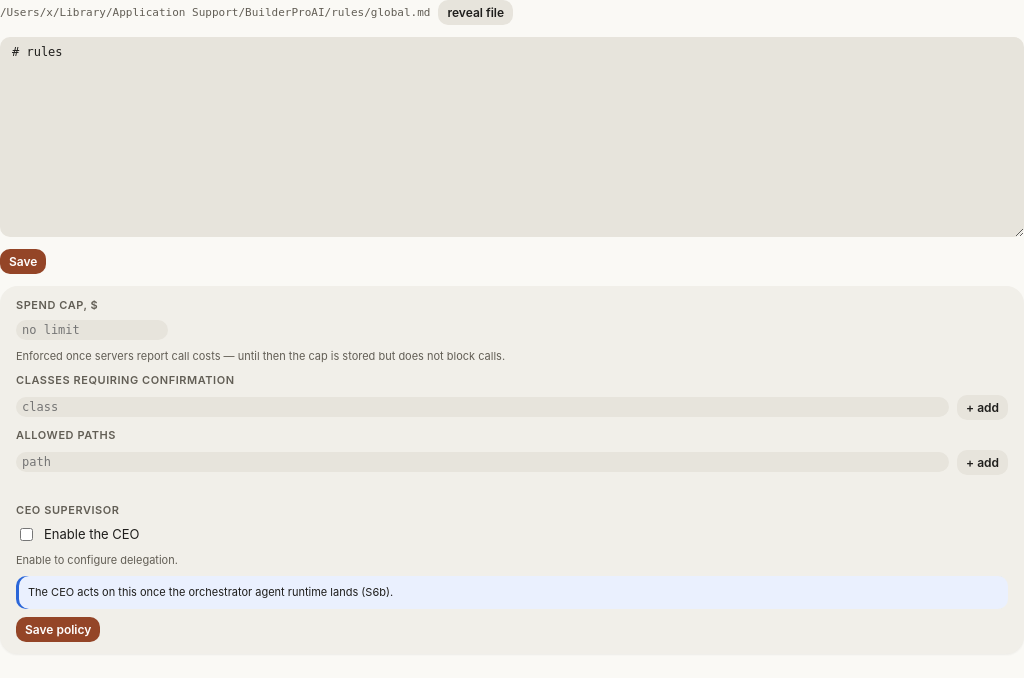
Test: RulesetPanel — CEO supervisor (SCN-046) › Recommended scope seeds the safe-shell + file-write delegated classes as checked
The image size is (1024, 678).
# Enable to reveal the detail controls, then apply the preset.
Click the checkbox with test id "ruleset-supervisor-enable": x=26, y=534 [20,528,33,540]
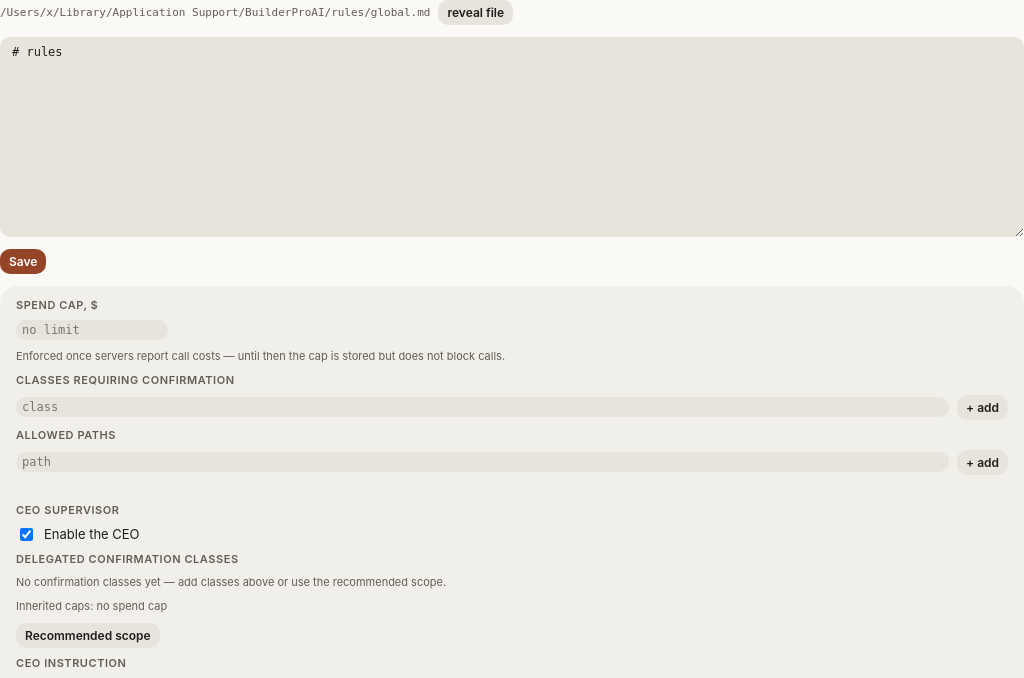
Click the button with test id "ruleset-supervisor-recommended": x=88, y=635 [16,622,160,648]
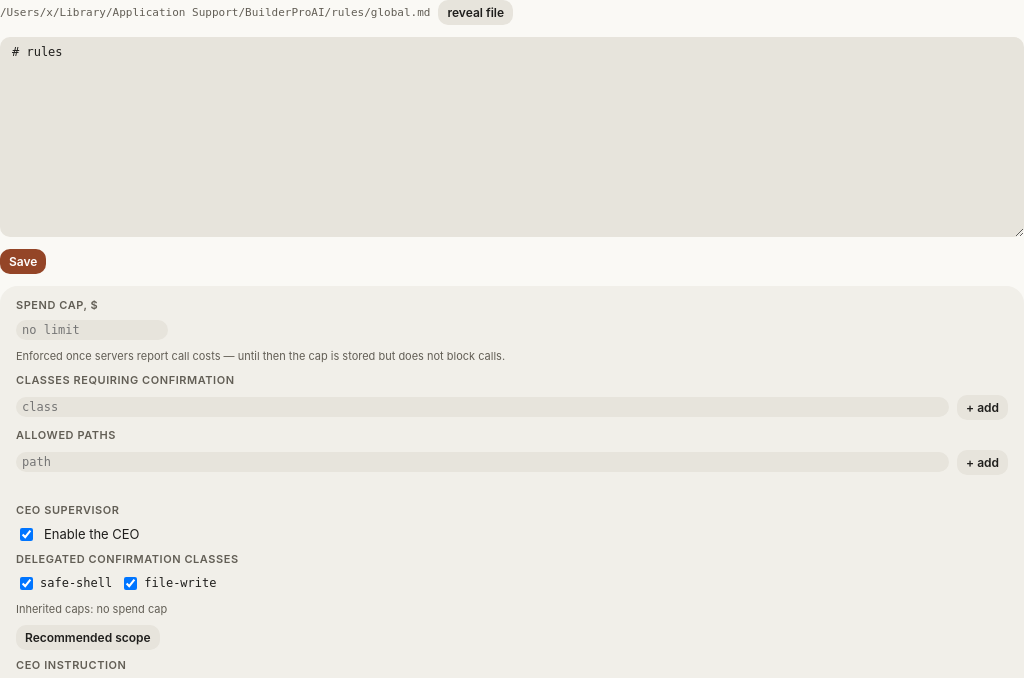
Expected: the checkbox with test id "ruleset-supervisor-class-safe-shell" is checked, [20,576,33,590]
Expected: the checkbox with test id "ruleset-supervisor-class-file-write" is checked, [124,576,137,590]
